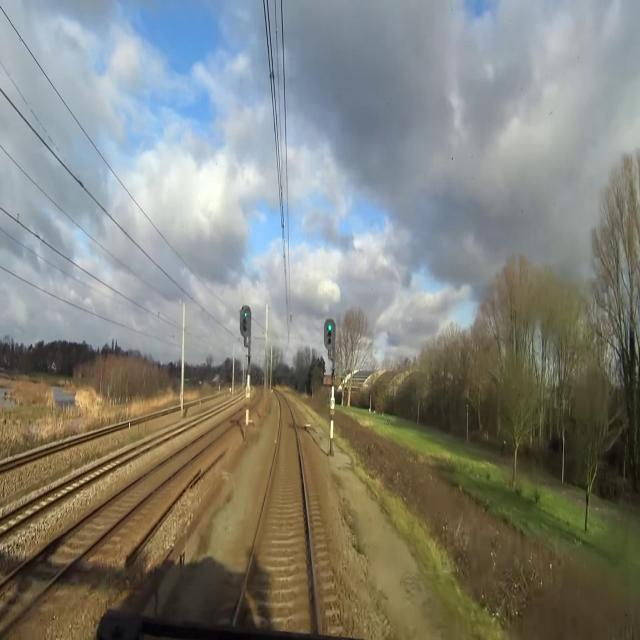rail-track: (0, 417, 234, 626), (238, 396, 317, 629), (0, 479, 80, 529)
